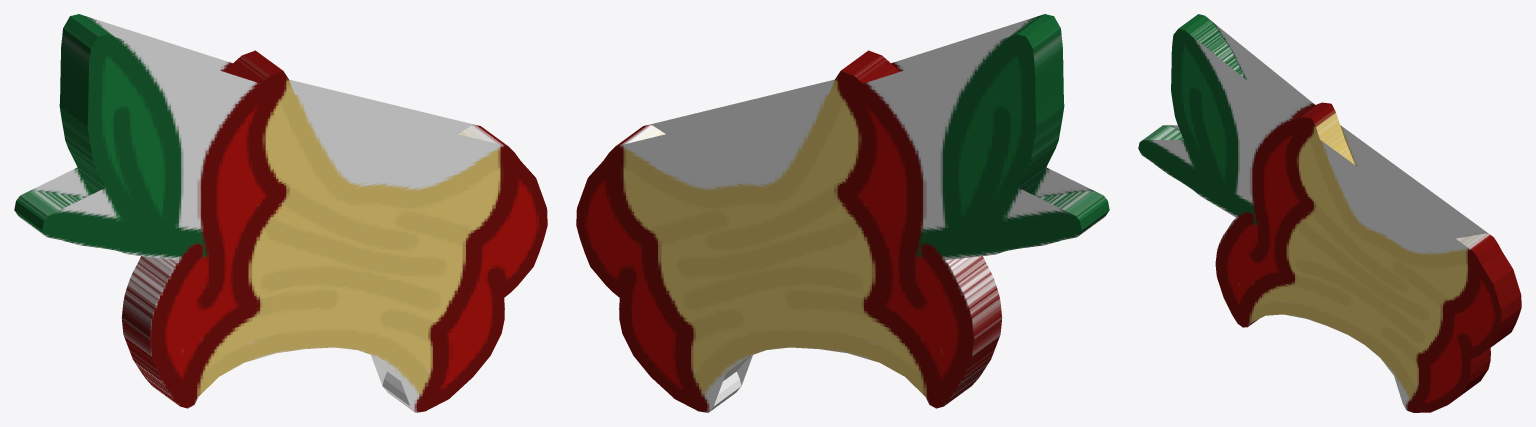
The model's file is apple.fbx.
The picture shows the model from 3 angles, left to right: view 1: azimuth 30°, elevation 25°; view 2: azimuth 150°, elevation 25°; view 3: azimuth 330°, elevation 25°; orthographic projection. The views are drawn at different scales.
Parts seen in each view (by area): view 1: Plane; view 2: Plane; view 3: Plane.
Part boxes in pixels (<box>): Plane: <box>14,14,547,412</box>; Plane: <box>576,14,1109,412</box>; Plane: <box>1138,14,1521,412</box>.
Bounding box in the file's own units: 488 × 419 × 46.68.
1 material, 1 textured.
